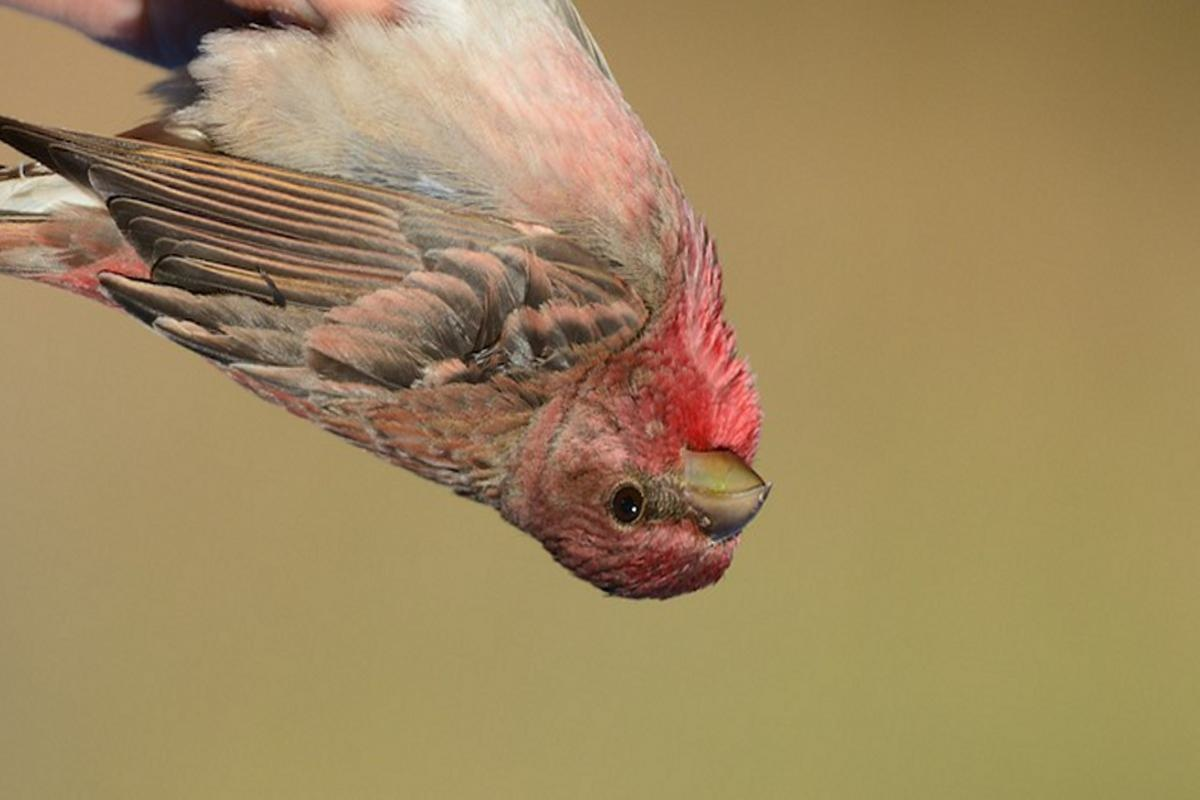rosefinch: (213, 5, 799, 595)
